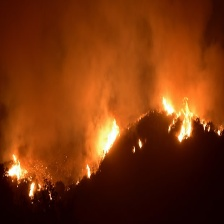fire: (163, 95, 197, 142), (100, 117, 117, 157), (5, 155, 29, 182), (75, 161, 93, 186), (202, 119, 223, 137), (27, 181, 37, 200), (132, 138, 143, 154), (47, 190, 54, 200)
smoke: (2, 1, 221, 130)
